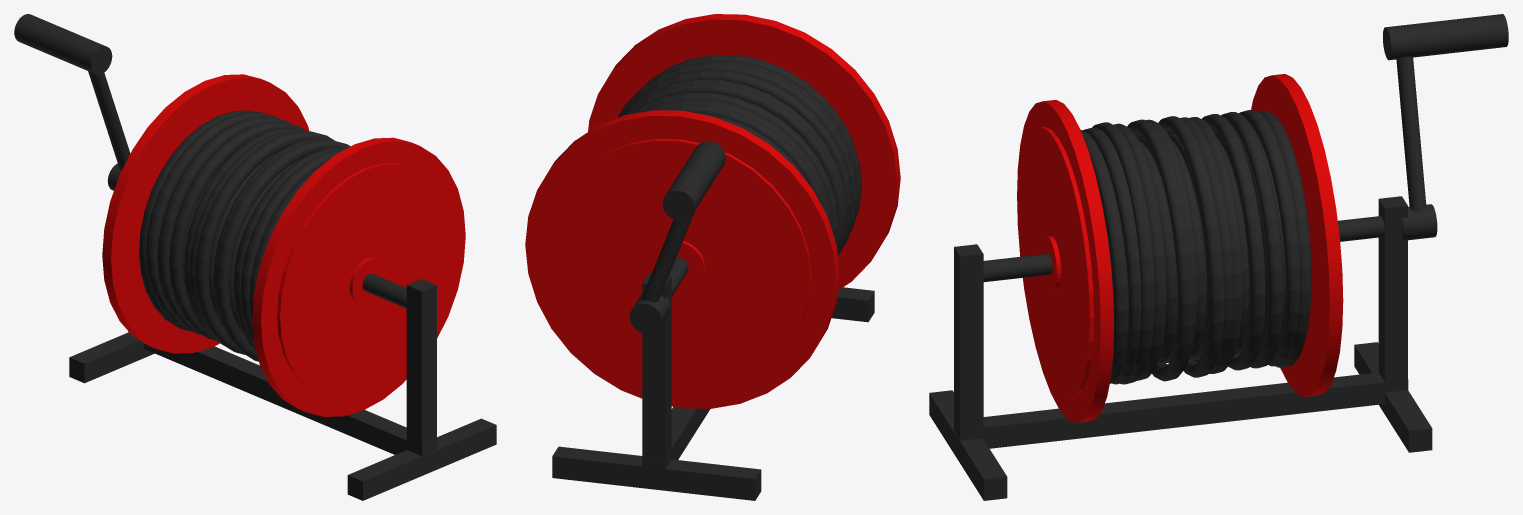
Rendered from 9u6O3jg_mSc.glb.
3 views of the same model, side by side, from view 1: azimuth 30°, elevation 25°; view 2: azimuth 150°, elevation 25°; view 3: azimuth 270°, elevation 25° (orthographic). The views are drawn at different scales.
Parts seen in each view (by area): view 1: Cylinder001, Cylinder003; view 2: Cylinder001, Cylinder003; view 3: Cylinder003, Cylinder001.
Boxes of the visible parts, x1=… form: Cylinder001: x1=102, y1=74, x2=465, y2=416; Cylinder003: x1=14, y1=14, x2=496, y2=500; Cylinder001: x1=525, y1=14, x2=900, y2=408; Cylinder003: x1=552, y1=54, x2=874, y2=500; Cylinder003: x1=929, y1=14, x2=1508, y2=500; Cylinder001: x1=1017, y1=74, x2=1343, y2=422.
Size of the model in its own units: 0.9637 by 0.9999 by 1.48.
